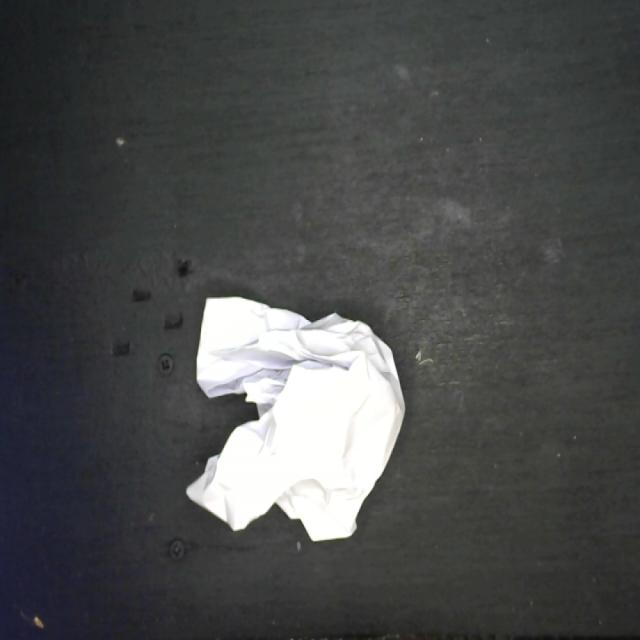biodegradable: (183, 292, 408, 543)
